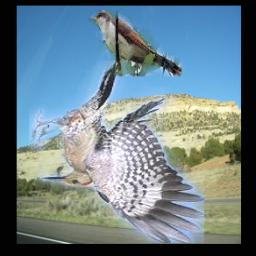Cuckoo: (89, 11, 182, 77)
Woodpecker: (29, 61, 204, 243)
